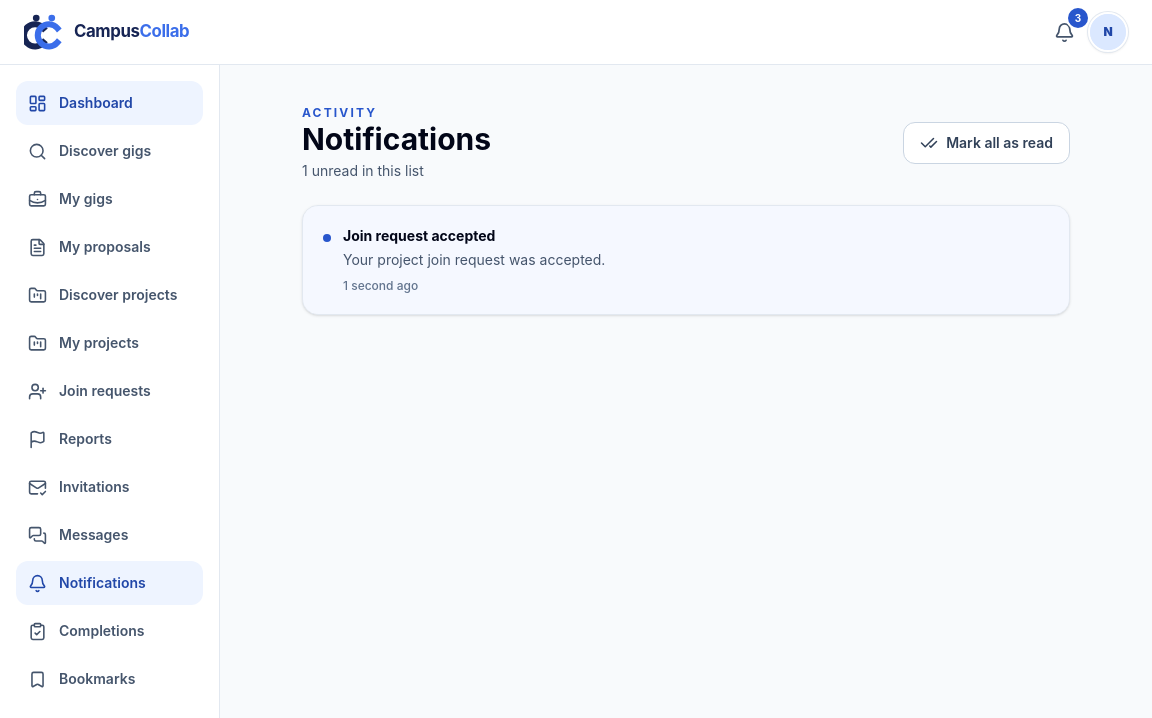
Test case: notifications › marks all loaded notifications read without refetching the list
What coordinates should you click on to do the following:
click the button "Mark all as read"
I would click on:
 (987, 143)
Its box is [903,122,1070,164].
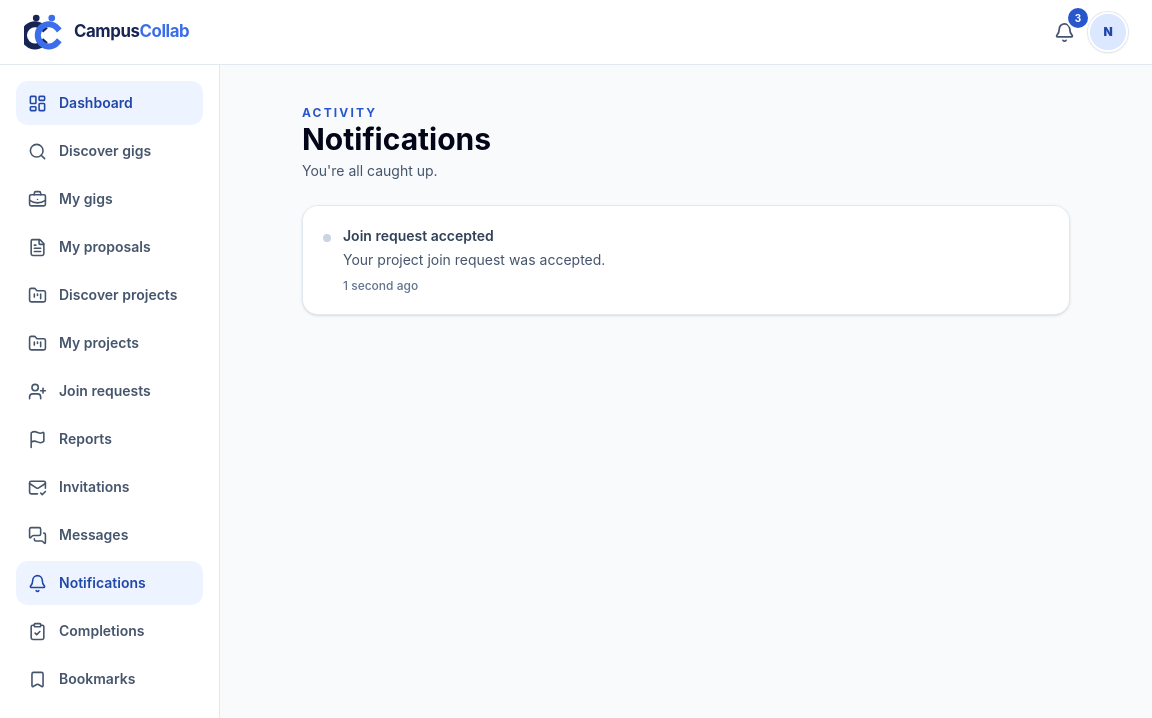
Result: the text "You're all caught up." is shown at [302,162,438,179]
